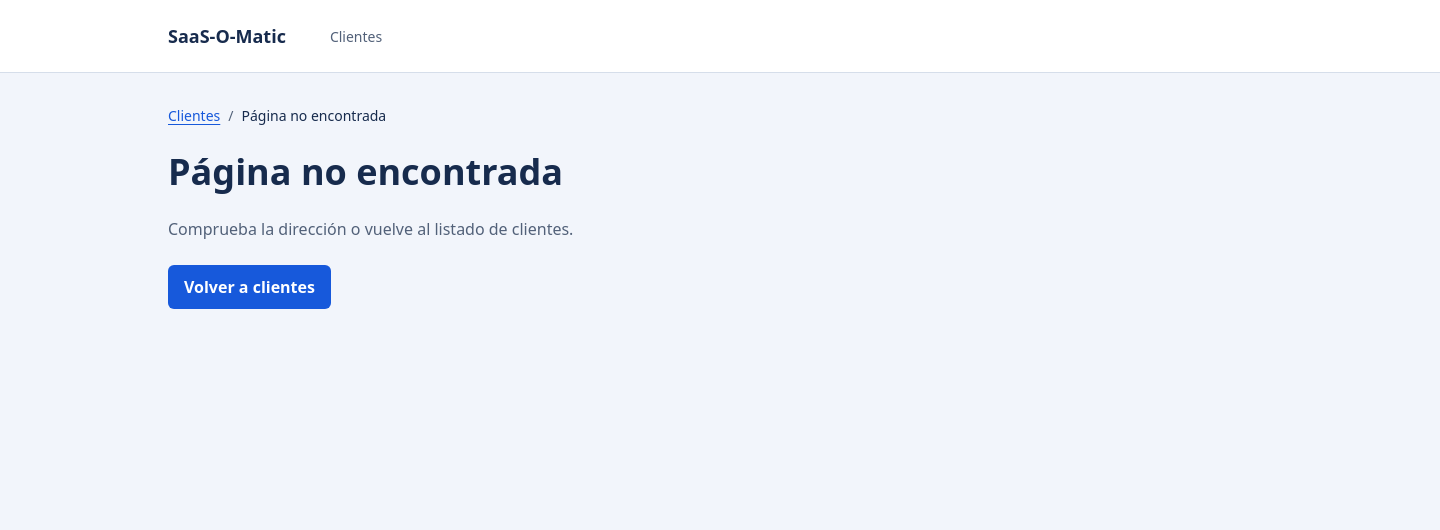
WEB-SHELL-01 › provides a working return from unknown routes
Step 1. Click the link "Volver a clientes" → (250, 287), box [168, 265, 331, 309]
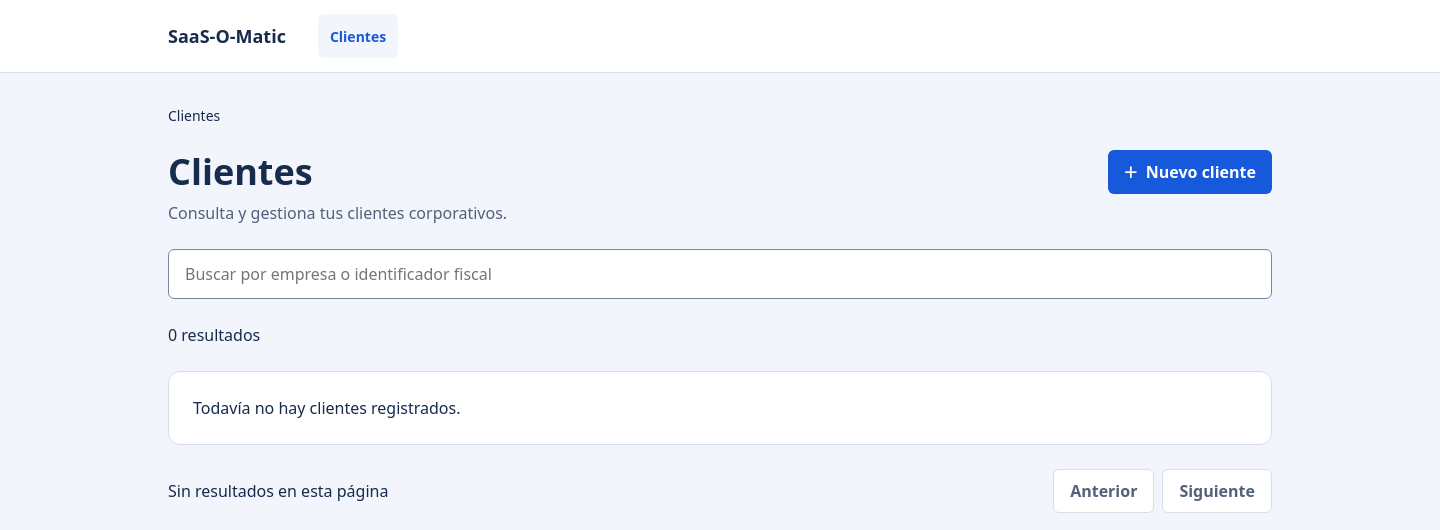
Check: the heading "Clientes" is shown, box [168, 147, 313, 196]
